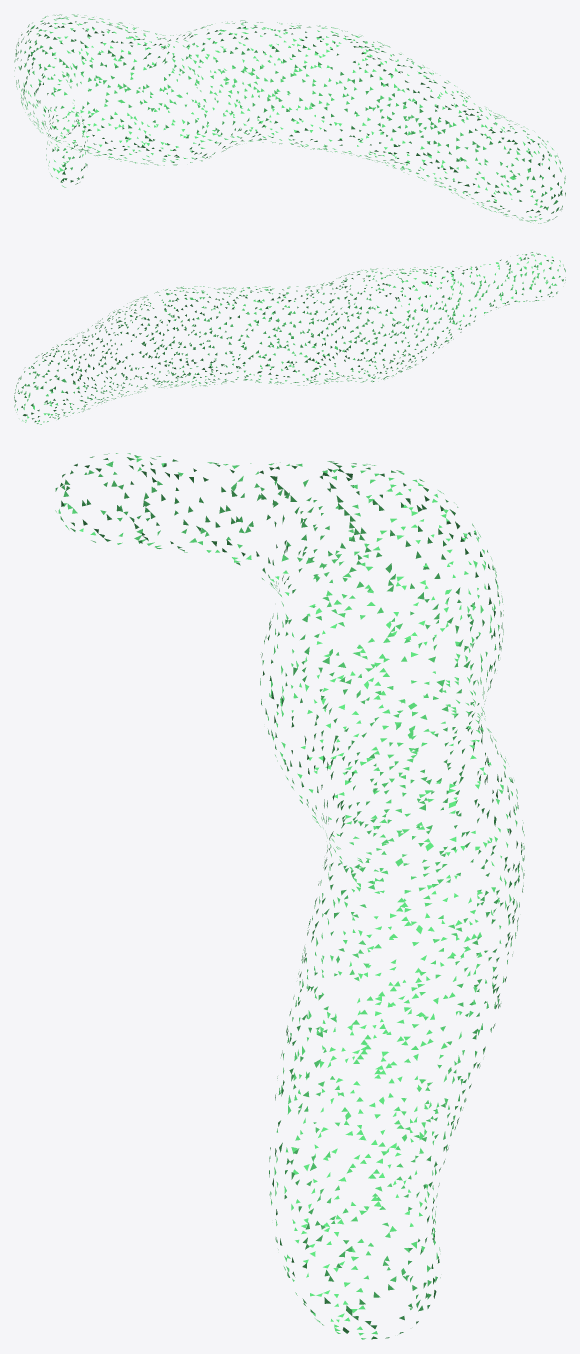
Rendered from morph_020.glb.
The picture shows the model from 3 angles, top to bottom: view 1: azimuth 30°, elevation 25°; view 2: azimuth 150°, elevation 25°; view 3: azimuth 270°, elevation 25°; orthographic projection. The views are drawn at different scales.
Size of the model in its own units: 108 by 54.4 by 47.02.
